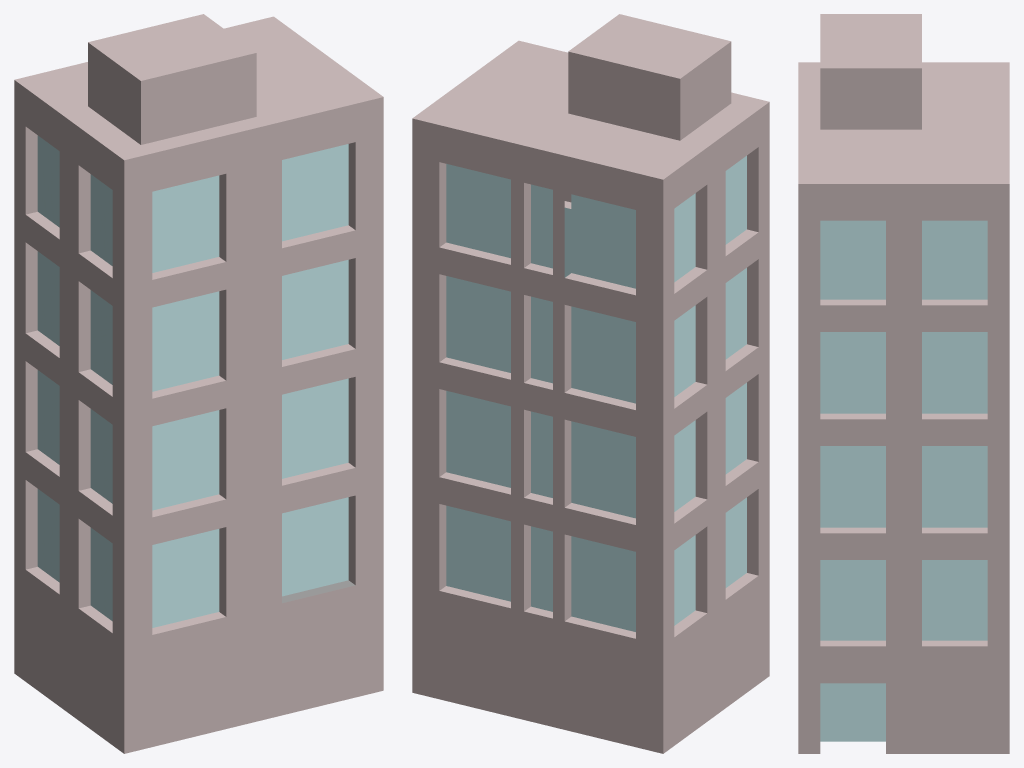
The model's file is Haneji_test5.fbx.
3 views of the same model, side by side, from view 1: azimuth 30°, elevation 25°; view 2: azimuth 150°, elevation 25°; view 3: azimuth 270°, elevation 25° (orthographic). The views are drawn at different scales.
Parts seen in each view (by area): view 1: MiniBill3; view 2: MiniBill3; view 3: MiniBill3.
Part boxes in pixels (left/top/right/bottom): MiniBill3: left=14, top=14, right=383, bottom=753; MiniBill3: left=412, top=14, right=769, bottom=753; MiniBill3: left=798, top=14, right=1009, bottom=753.
Bounding box in the file's own units: 1000 × 2422 × 734.
